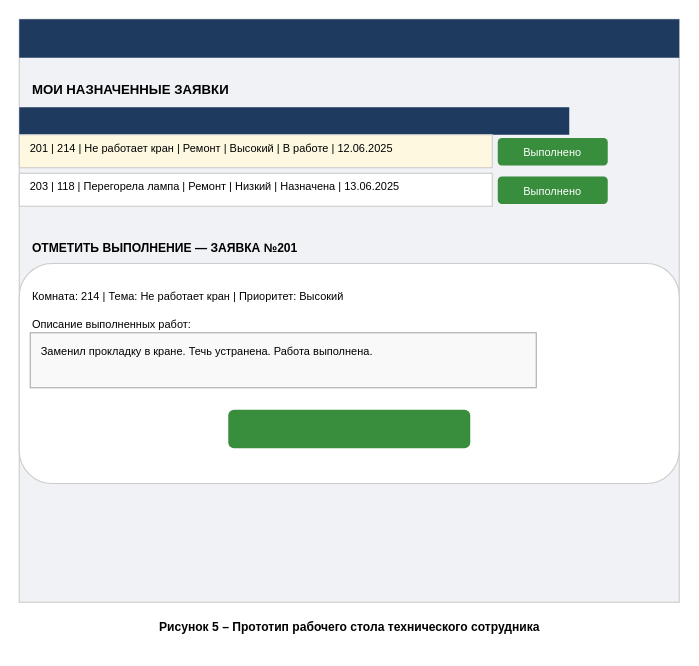
This 699x666 diagram has some shape labels left out. The shapes that lost their labels are listed below. From the top down, each one's centre as x and y in pixels, then its label:
At (349,38): "ИС Студенческого общежития | Смирнов П.В. (технический сотрудник) | [Выход]".
At (294,120): "№ | Комн. | Тема | Категория | Приоритет | Статус | Дата назначения".
At (349,428): "Отметить как выполненное".
